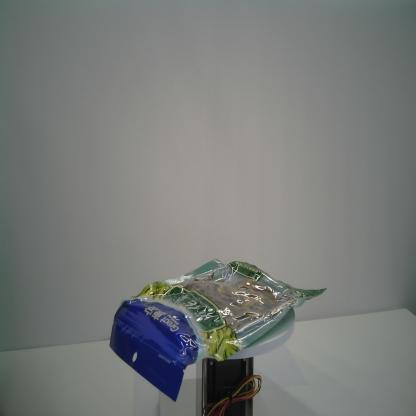Dried Food: (108, 258, 328, 404)
